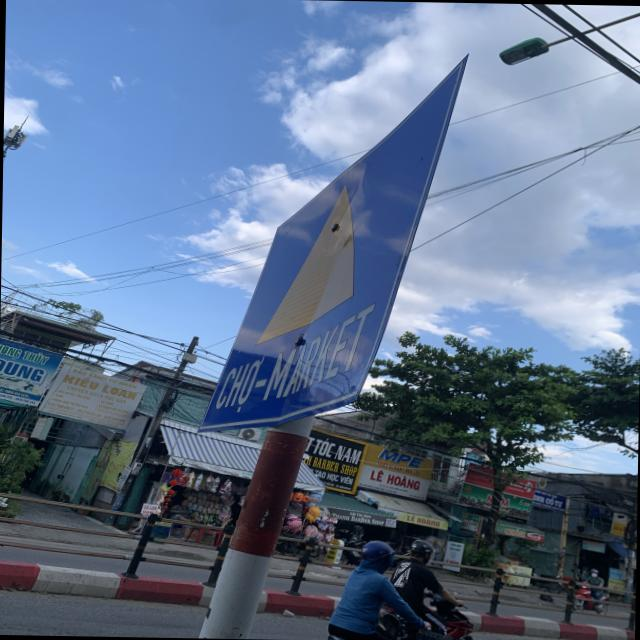Cho_Quay_Xe: (206, 59, 464, 429)
